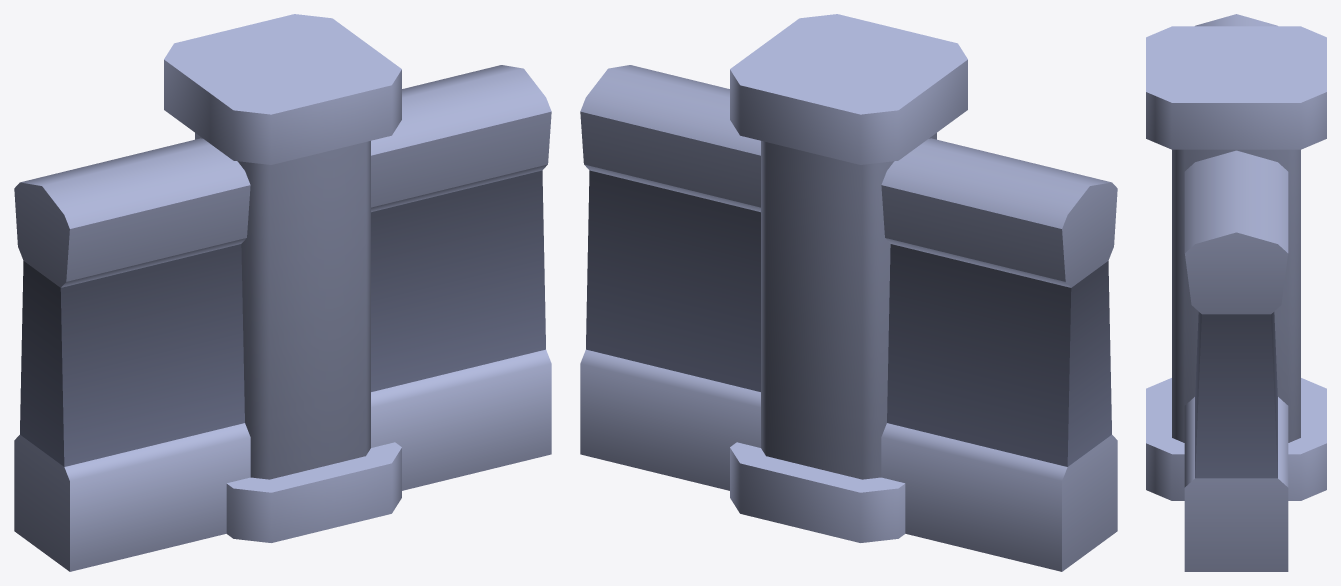
File: stone-wall-column_lev2.glb
The picture shows the model from 3 angles, left to right: view 1: azimuth 30°, elevation 25°; view 2: azimuth 150°, elevation 25°; view 3: azimuth 270°, elevation 25°; orthographic projection. The views are drawn at different scales.
Parts seen in each view (by area): view 1: stone-wall-column_lev2; view 2: stone-wall-column_lev2; view 3: stone-wall-column_lev2.
Part boxes in pixels (left/top/right/bottom): stone-wall-column_lev2: left=14, top=14, right=551, bottom=571; stone-wall-column_lev2: left=580, top=14, right=1117, bottom=571; stone-wall-column_lev2: left=1146, top=14, right=1326, bottom=571.
Bounding box in the file's own units: 1 × 0.85 × 0.35.
1 material, 1 textured.
